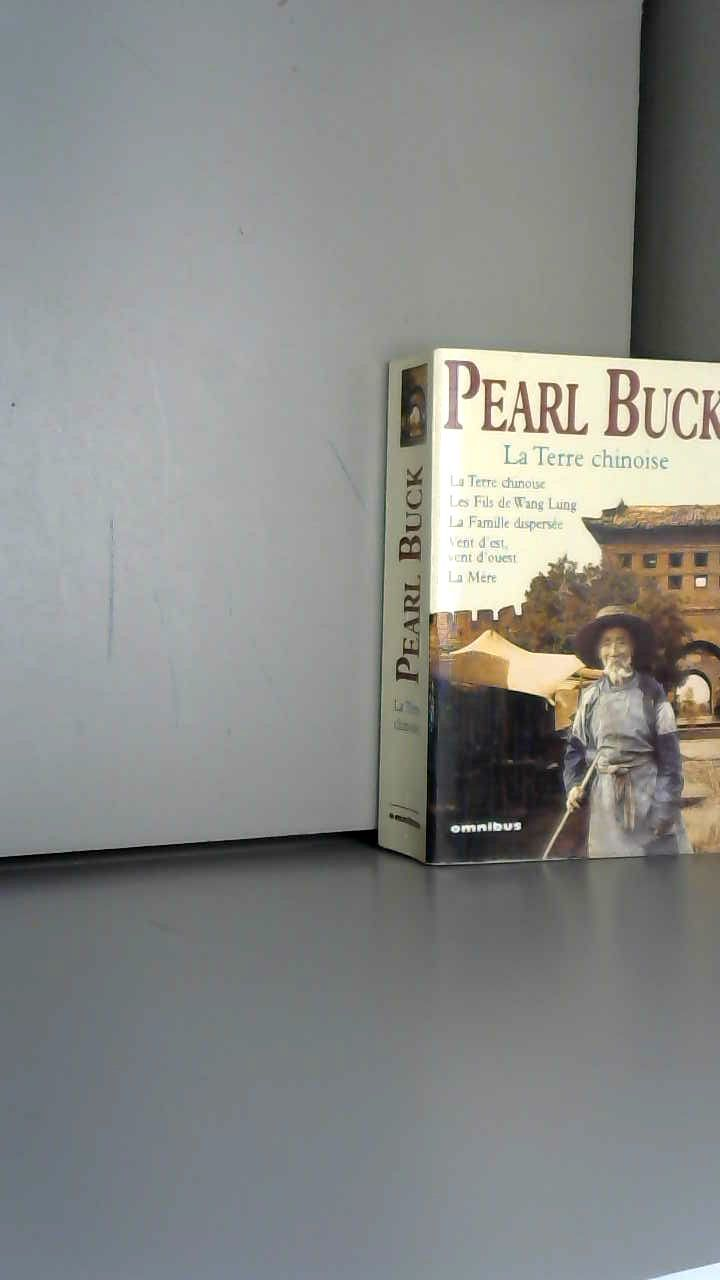book: (380, 320, 720, 908)
